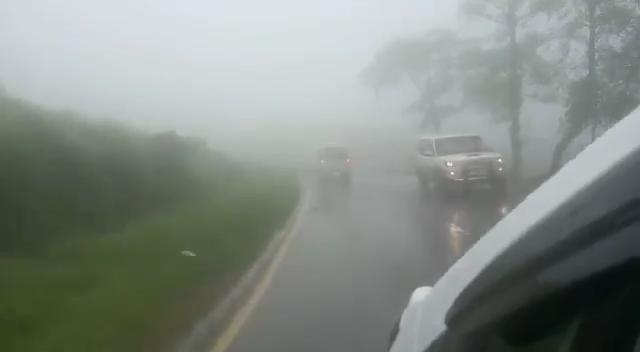car: (415, 134, 508, 196), (317, 146, 351, 180)
